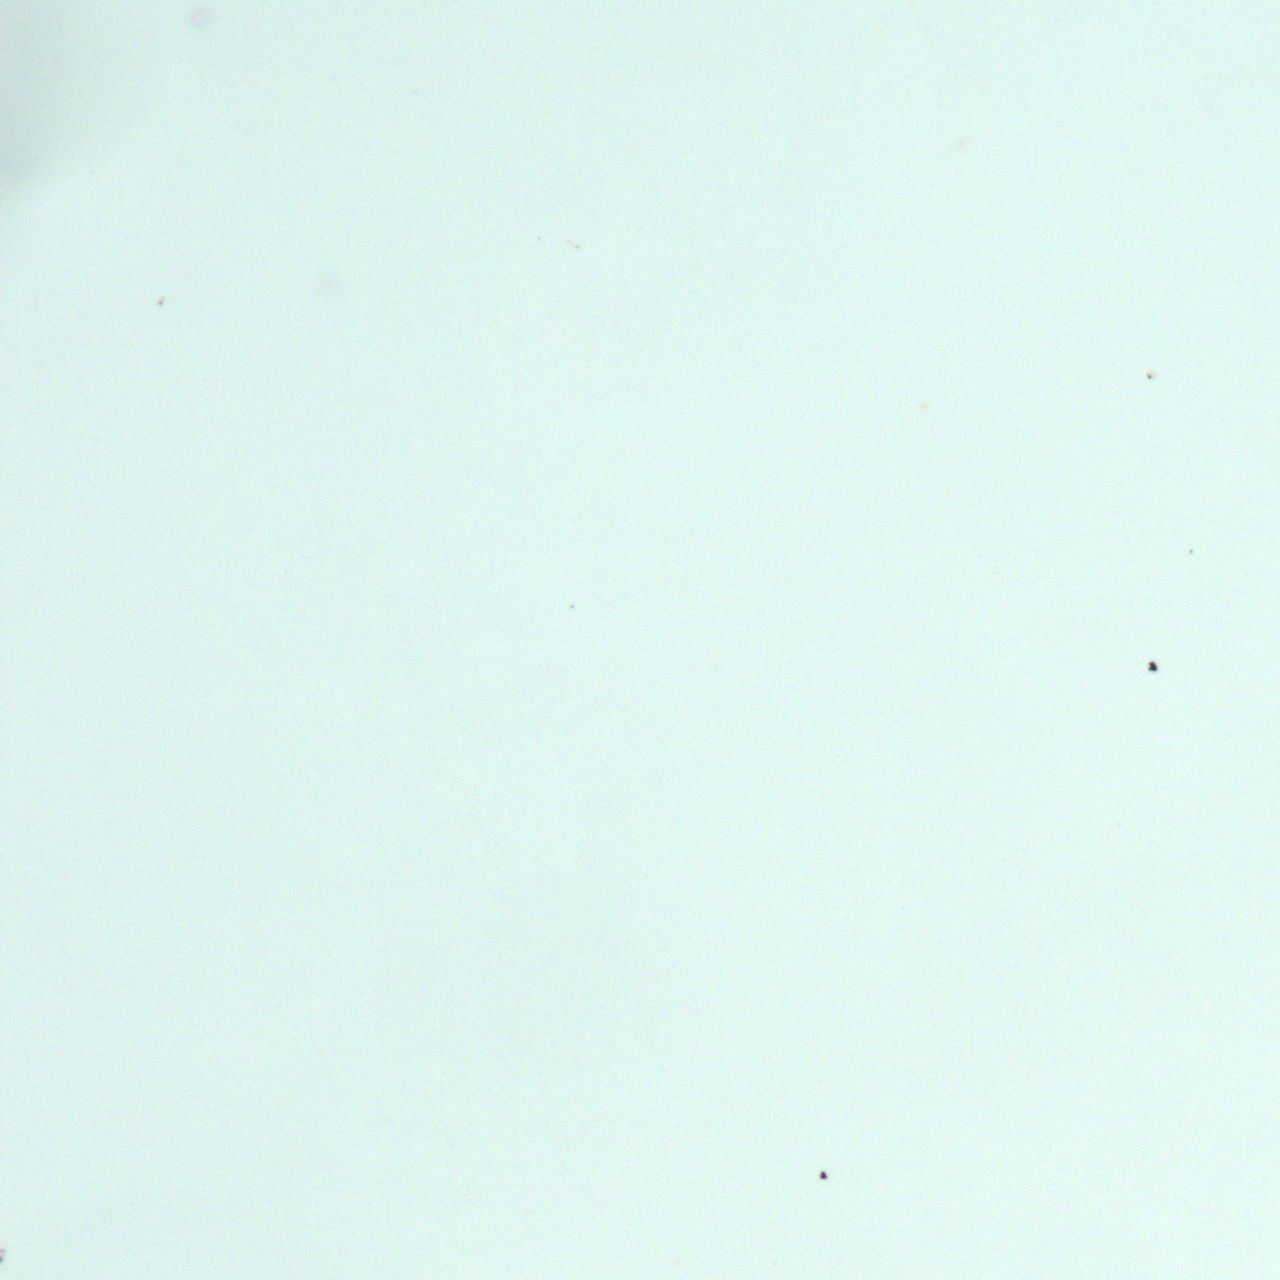dust: (816, 1173, 830, 1182), (1148, 661, 1157, 672), (1189, 549, 1193, 553), (158, 300, 163, 305), (1148, 374, 1151, 377)
